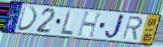2: (35, 7, 58, 35)
D: (15, 5, 39, 32)
H: (76, 11, 105, 39)
J: (103, 13, 126, 41)
L: (60, 9, 74, 36)
R: (121, 15, 144, 41)
